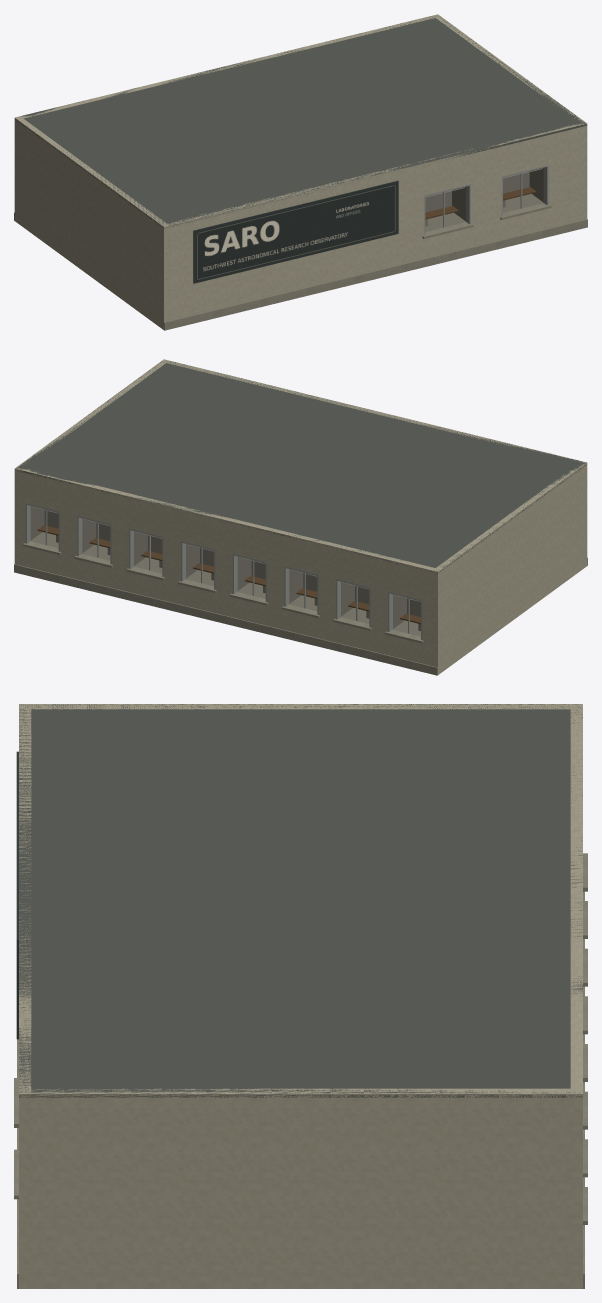
Rendered from SM_SaroSite_Facade_LOD1.fbx.
The picture shows the model from 3 angles, top to bottom: view 1: azimuth 30°, elevation 25°; view 2: azimuth 150°, elevation 25°; view 3: azimuth 270°, elevation 25°; orthographic projection. The views are drawn at different scales.
Visible parts, largest first — view 1: SM_SaroSite_Facade_LOD1; view 2: SM_SaroSite_Facade_LOD1; view 3: SM_SaroSite_Facade_LOD1.
Part boxes in pixels (box(x1,y1,x2,y2)): SM_SaroSite_Facade_LOD1: box(14, 14, 587, 330); SM_SaroSite_Facade_LOD1: box(14, 359, 587, 675); SM_SaroSite_Facade_LOD1: box(14, 704, 587, 1288).
Bounding box in the file's own units: 18 × 11.2 × 4.2.
